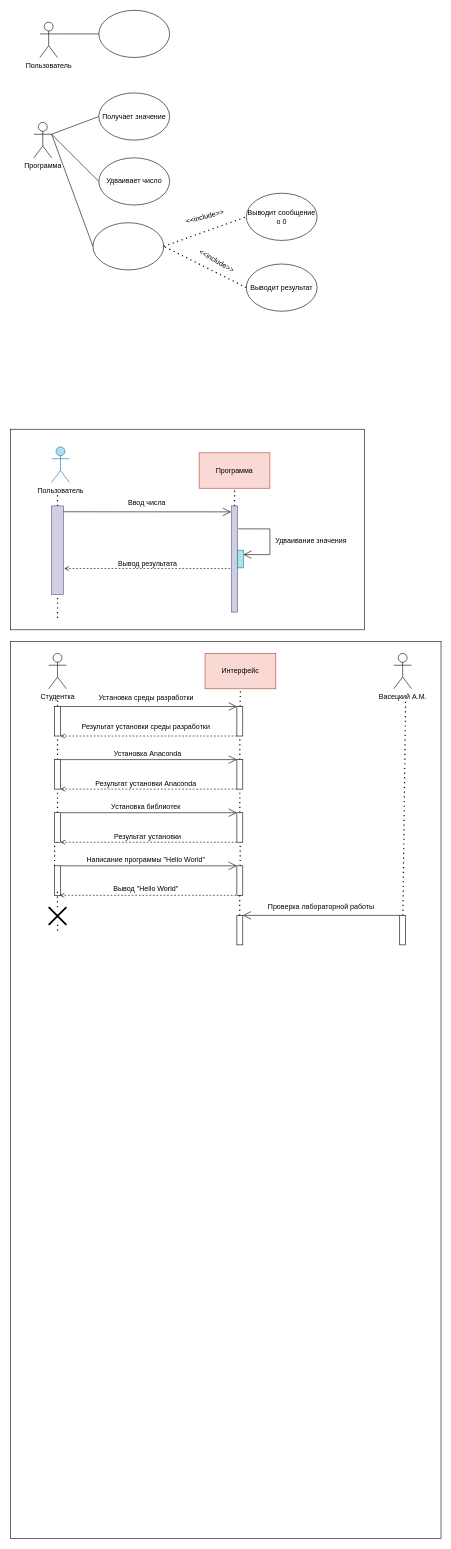
The diagram is 451 pixels wide and 1549 high, and some of its shapes have lost their labels. The centre of each missing label's shape, as x and y in pixels:
Вводит число: the point at 134,34
Выводит сообщение: the point at 128,246
